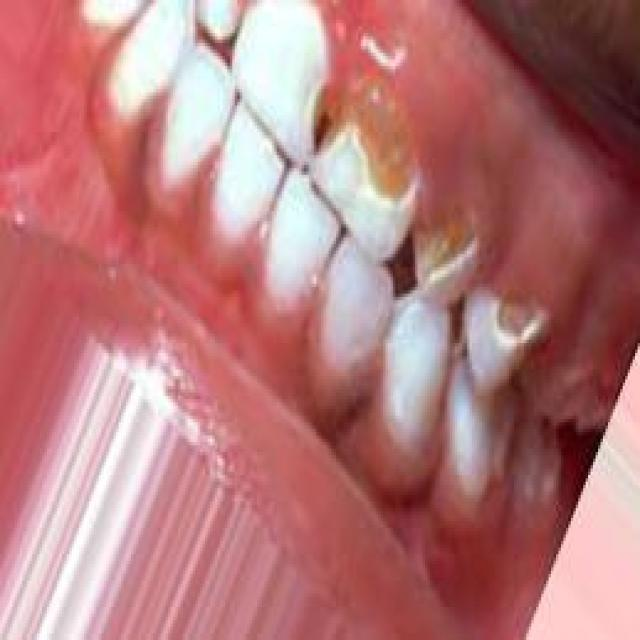caries: (302, 71, 422, 216), (465, 279, 545, 395), (404, 200, 485, 307)
